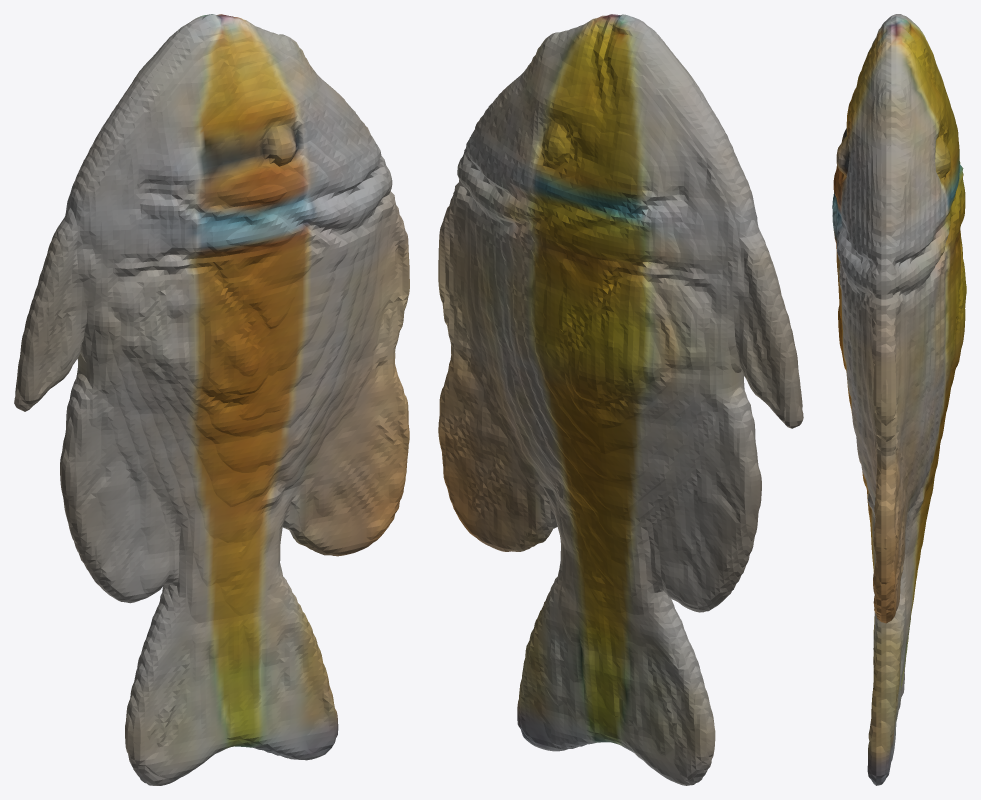
File: amphiprion-chrysogaster.glb
3 renders of one model, left to right at view 1: azimuth 30°, elevation 25°; view 2: azimuth 150°, elevation 25°; view 3: azimuth 270°, elevation 25°, orthographic. The views are drawn at different scales.
Visible parts, largest first — view 1: world; view 2: world; view 3: world.
Part boxes in pixels (x1=…): world: x1=14, y1=14, x2=409, y2=785; world: x1=438, y1=14, x2=803, y2=785; world: x1=832, y1=14, x2=966, y2=785.
Size of the model in its own units: 0.5663 by 1.09 by 0.1838.
